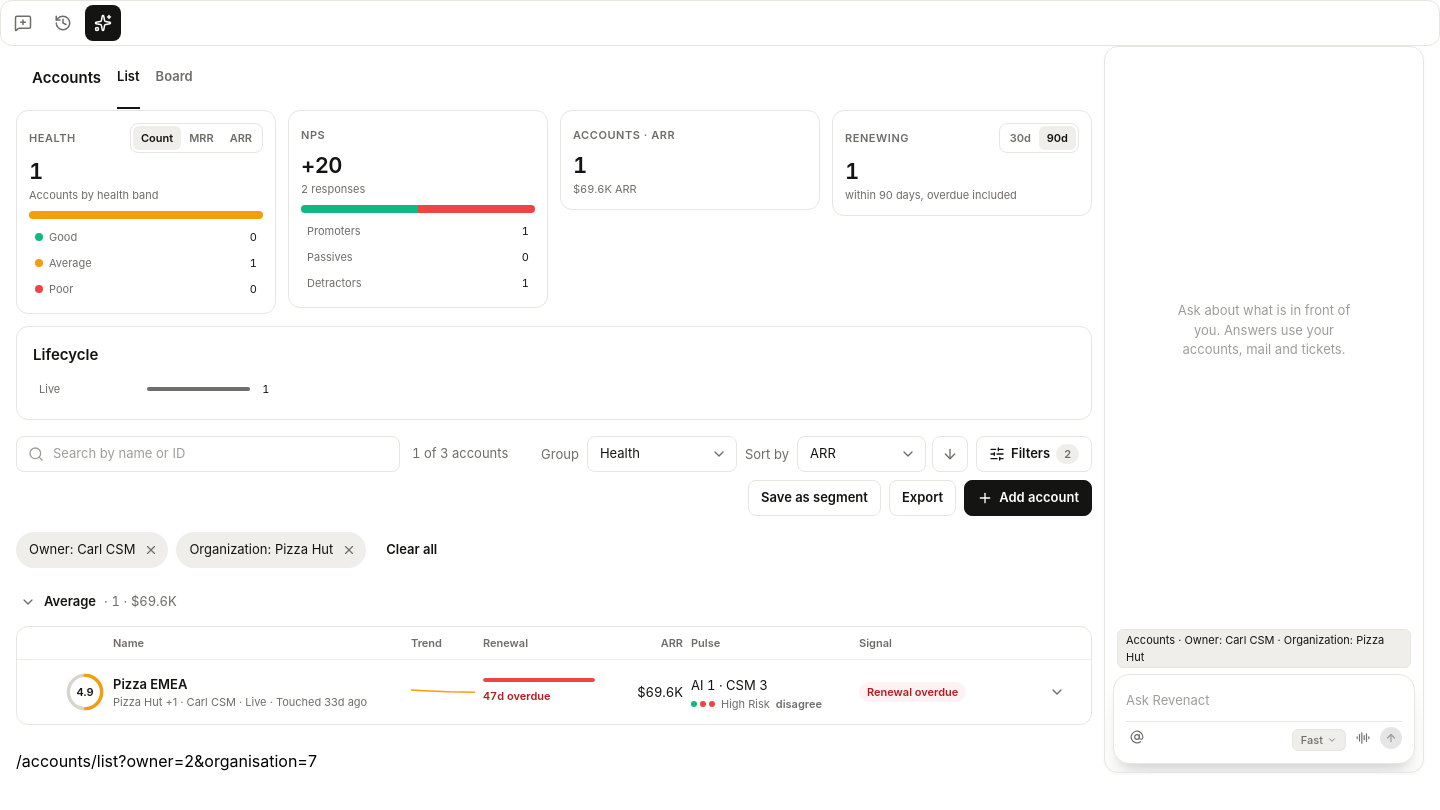
Test: Ask Revenact on the Accounts List and Board › asks with the list's filters, names them in the chip, and keeps the server's label
expect the link "Pizza EMEA" is shown: met, box [113,674,187,694]
expect the text "Accounts · Owner: Carl CSM · Organization: Pizza Hut" is shown: met, box [1117,629,1411,668]
Type "Who needs me first?" into the field with placeholder "Ask Revenact". click: (1264, 701)
box: [1126,689,1402,712]
Then press Enter
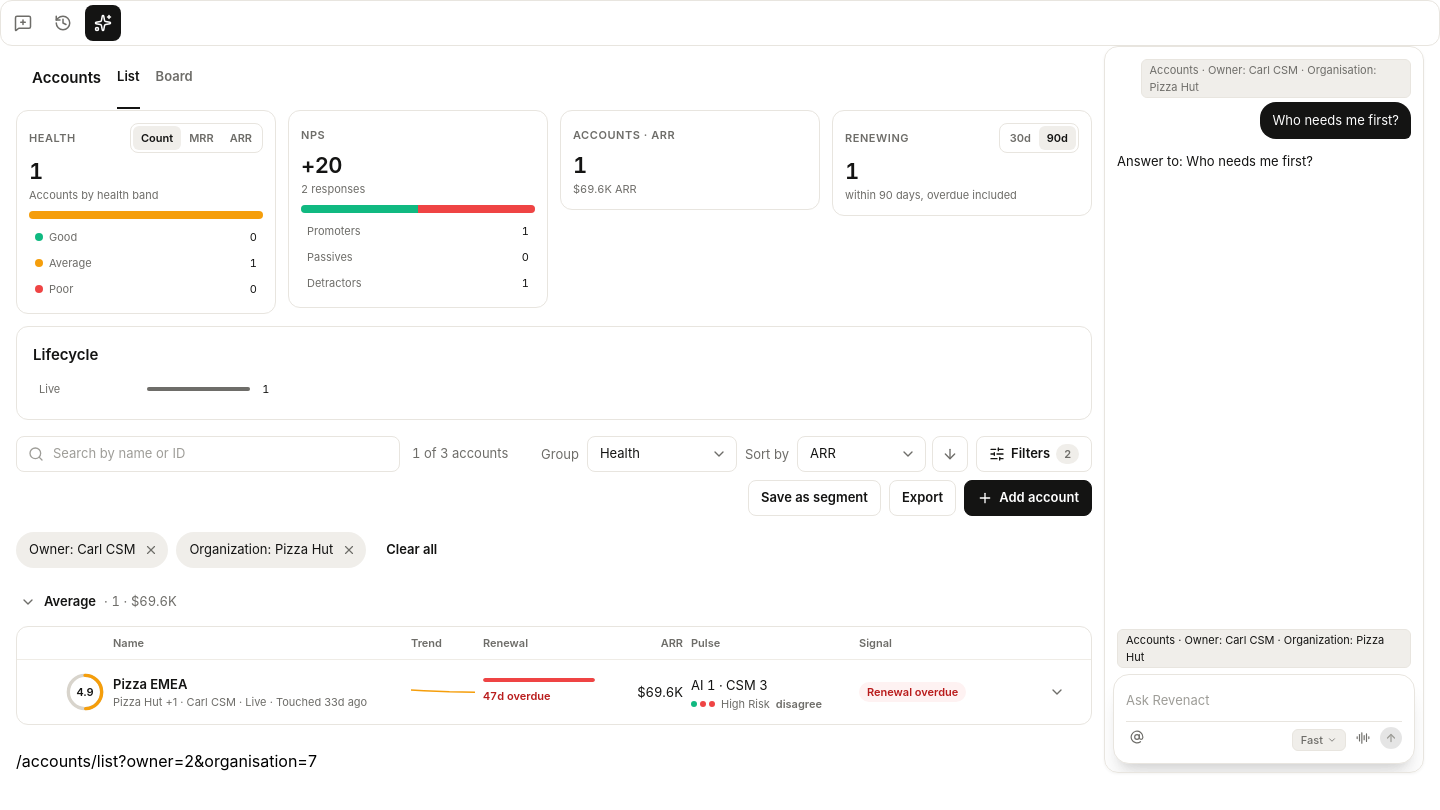
expect the text "Answer to: Who needs me first?" is shown: met, box [1117,151,1313,172]
expect the text "Accounts · Owner: Carl CSM · Organisation: Pizza Hut" is shown: met, box [1140,59,1411,98]
